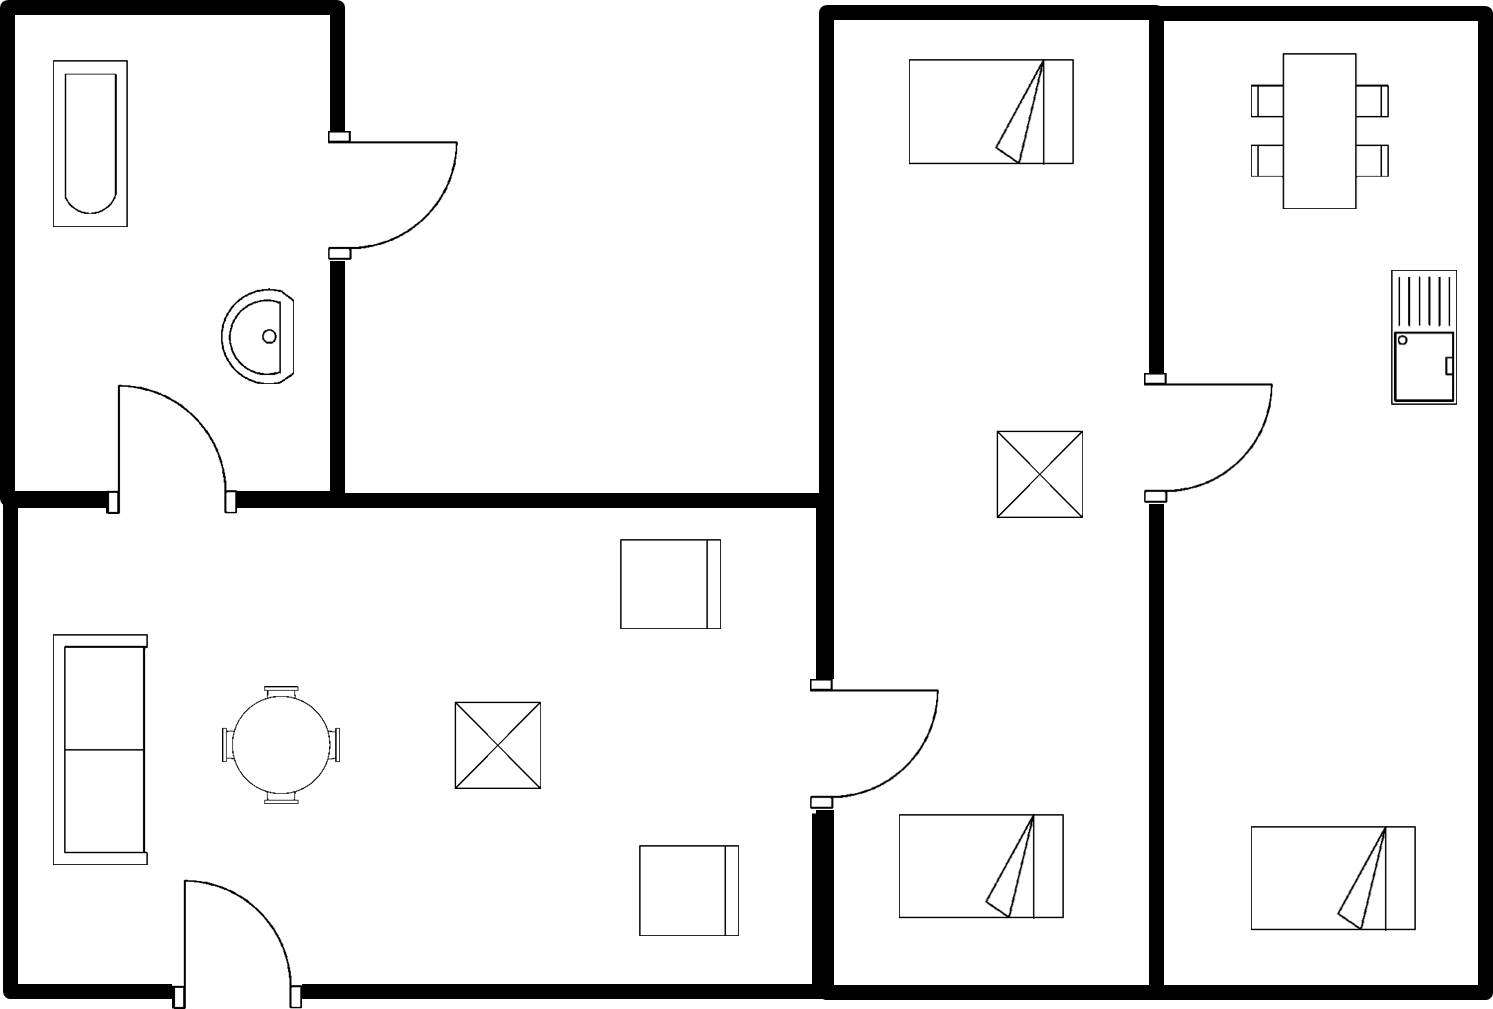bed: (892, 805, 1073, 927), (1242, 821, 1423, 937), (905, 53, 1080, 171)
coffee_table: (447, 695, 547, 796), (989, 425, 1089, 523)
dining_table: (1240, 43, 1399, 218)
large_sofa: (47, 624, 156, 872)
round_table: (211, 676, 350, 811)
sink: (1384, 260, 1464, 415)
small_sink: (215, 281, 305, 393)
small_sofa: (614, 533, 728, 638), (633, 837, 748, 943)
tub: (45, 54, 135, 236)
